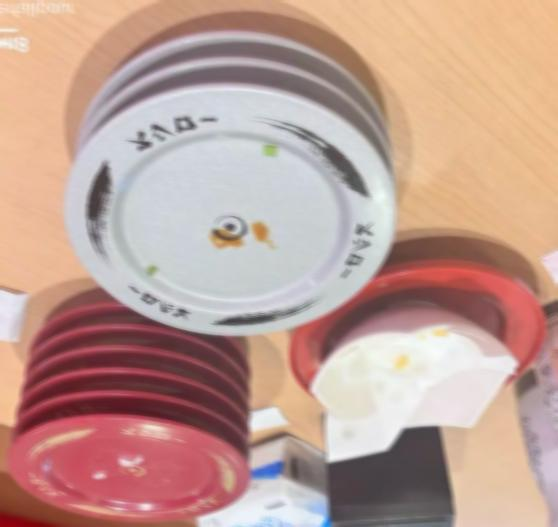Janred: (18, 429, 249, 507), (24, 391, 228, 420), (34, 347, 207, 366), (33, 368, 209, 385), (43, 321, 172, 340), (46, 301, 127, 321)
Janwhite: (98, 112, 385, 298), (108, 56, 358, 104), (140, 26, 354, 59)
